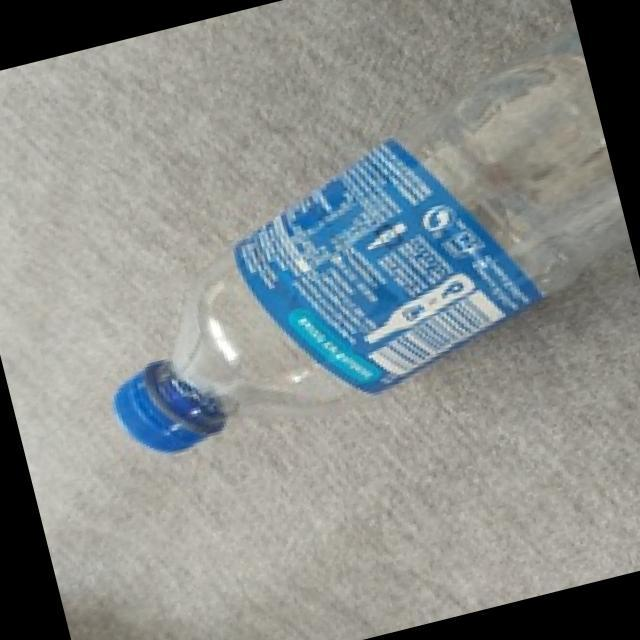good: (39, 12, 640, 486)
